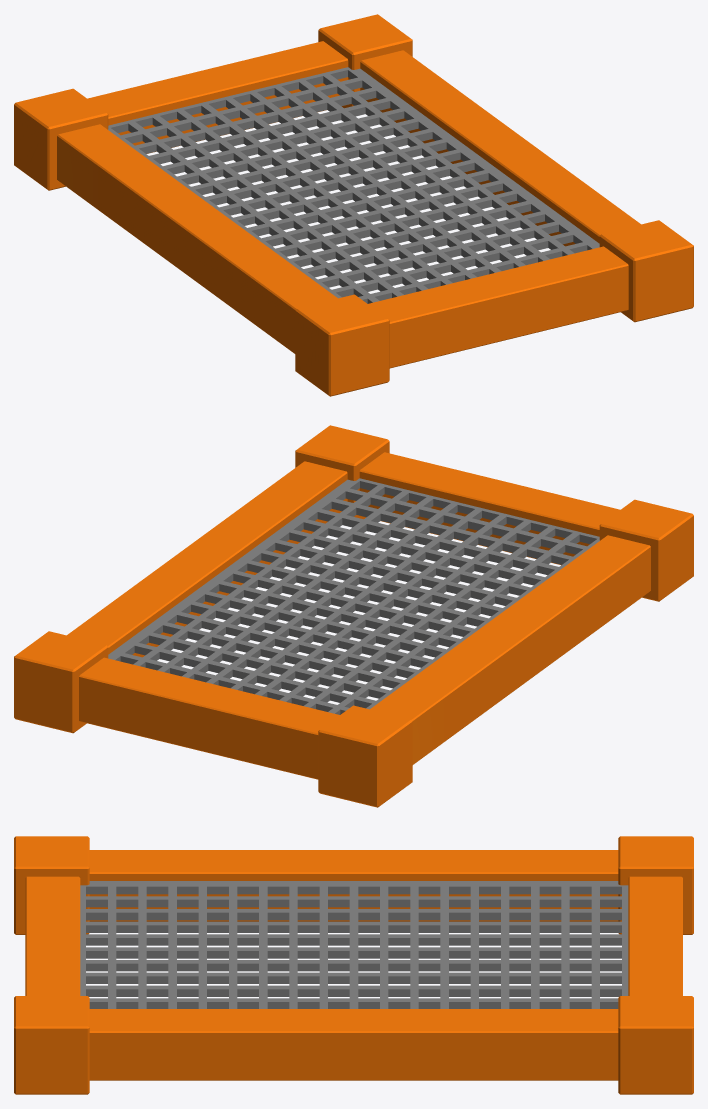
Rendered from BridgeOneSegmentYellow.fbx.
3 renders of one model, top to bottom at view 1: azimuth 30°, elevation 25°; view 2: azimuth 150°, elevation 25°; view 3: azimuth 270°, elevation 25°, orthographic. The views are drawn at different scales.
Parts seen in each view (by area): view 1: Platform, Grate; view 2: Platform, Grate; view 3: Platform, Grate.
Boxes of the visible parts, x1,y1,x2,y2 form: Platform: (14,14,693,396); Grate: (108,67,599,303); Platform: (14,425,693,807); Grate: (108,478,599,714); Platform: (14,836,693,1094); Grate: (80,881,628,1008).
Size of the model in its own units: 6 by 1 by 9.
